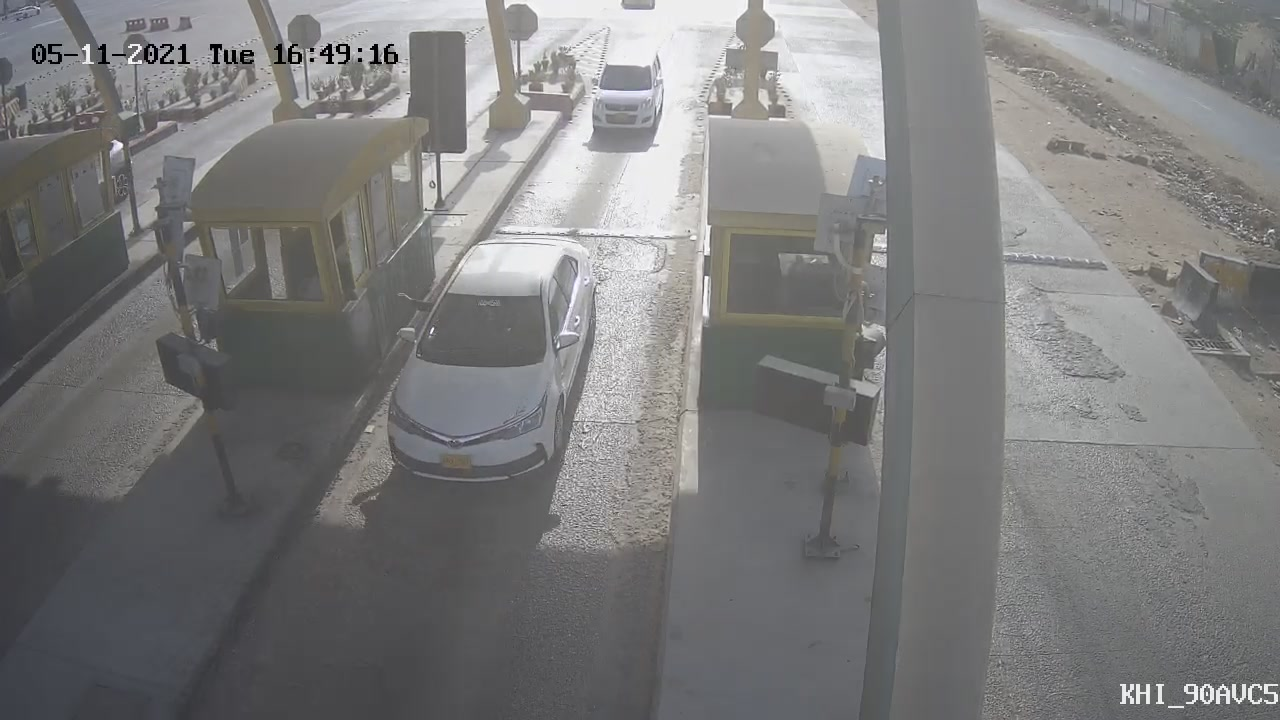F1: (363, 220, 617, 504), (576, 38, 677, 159)
